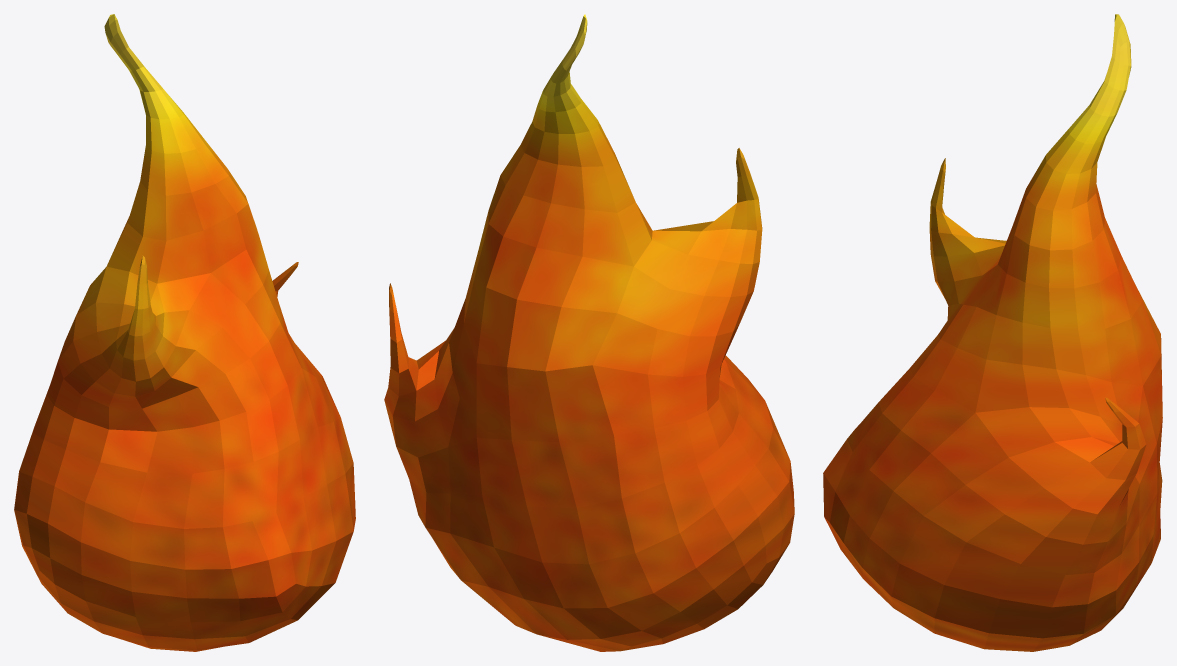
Rendered from Flame.fbx.
The picture shows the model from 3 angles, left to right: view 1: azimuth 30°, elevation 25°; view 2: azimuth 150°, elevation 25°; view 3: azimuth 270°, elevation 25°; orthographic projection. The views are drawn at different scales.
Parts seen in each view (by area): view 1: fire3:Group20972; view 2: fire3:Group20972; view 3: fire3:Group20972.
Part boxes in pixels (x1,y1,x2,y2): fire3:Group20972: (14, 14, 355, 651); fire3:Group20972: (384, 14, 794, 651); fire3:Group20972: (823, 14, 1162, 651).
Bounding box in the file's own units: 11.15 × 20.27 × 10.32.
